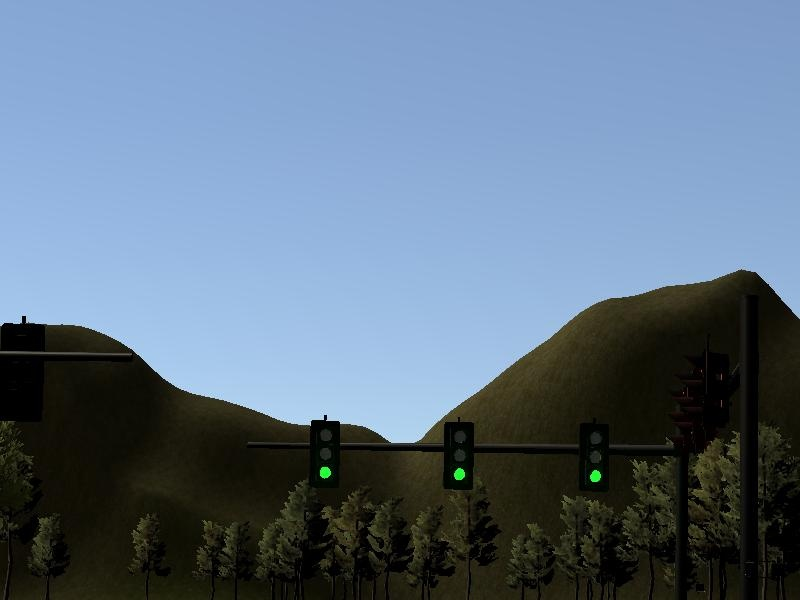GREEN: (439, 419, 478, 496), (306, 417, 343, 494), (577, 421, 611, 494)
